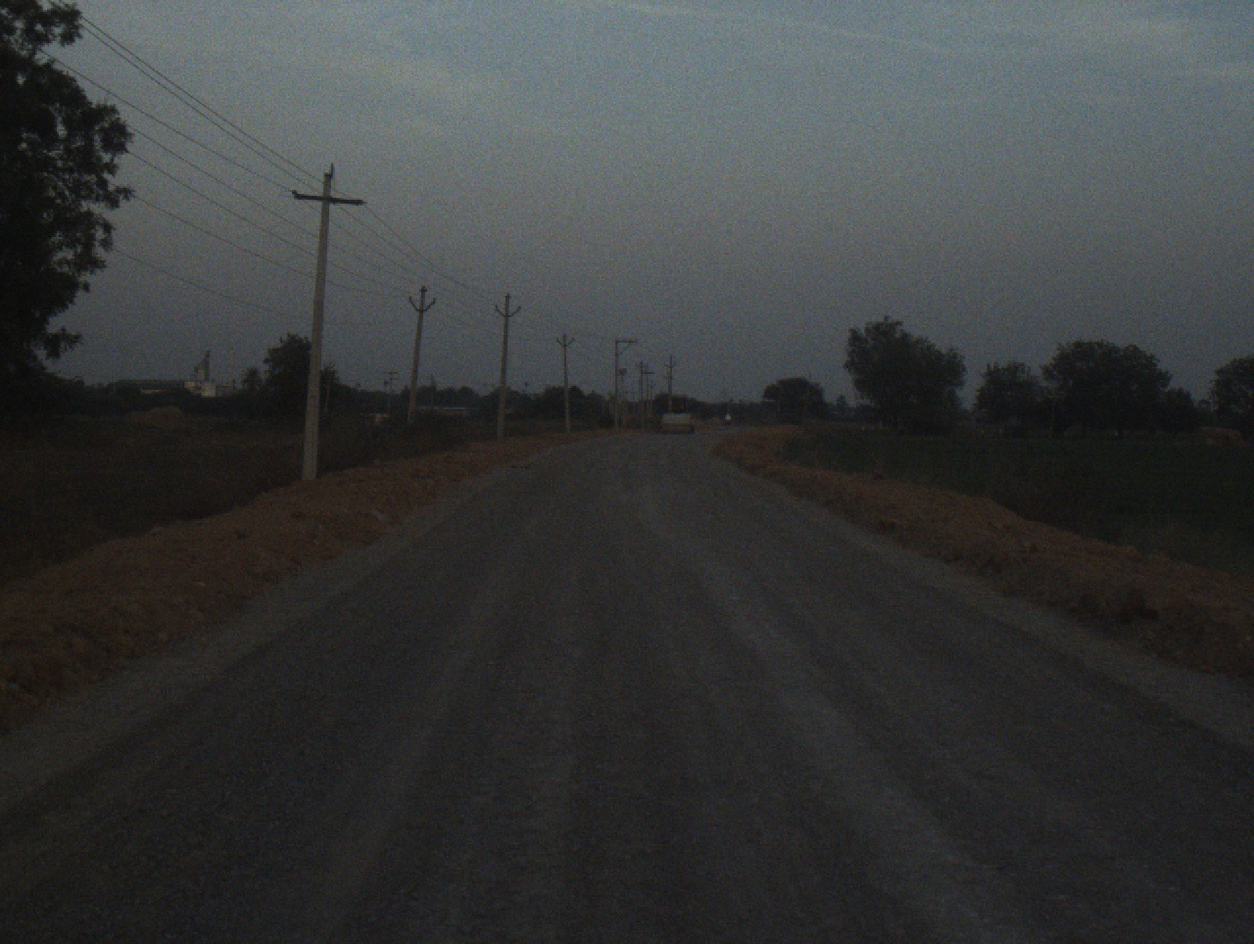vehicle fallback: (650, 388, 699, 436)
